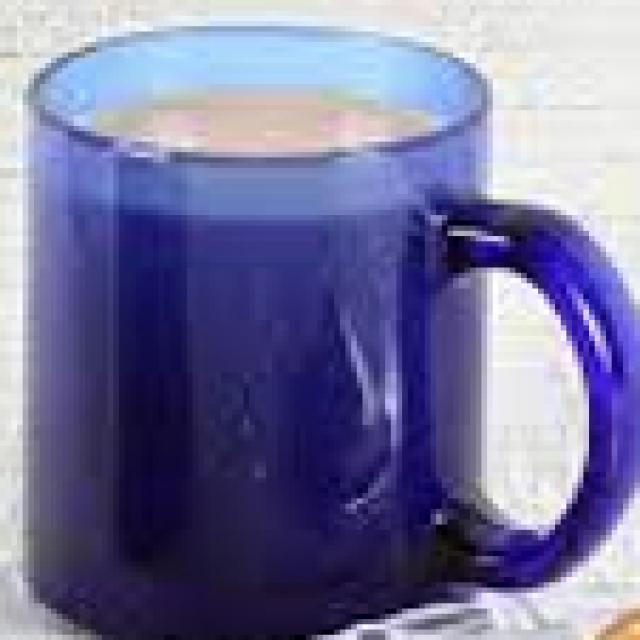taza: (19, 25, 639, 640)
